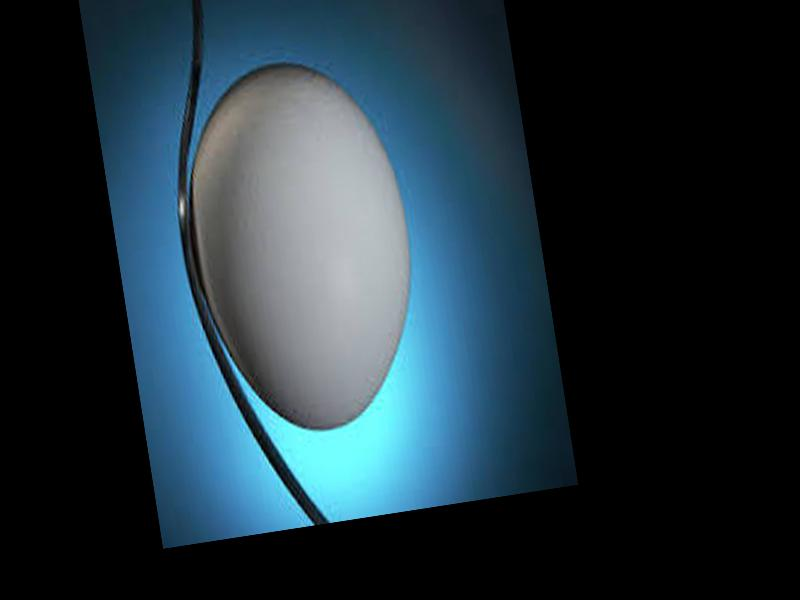Eggs: (170, 49, 432, 445)
